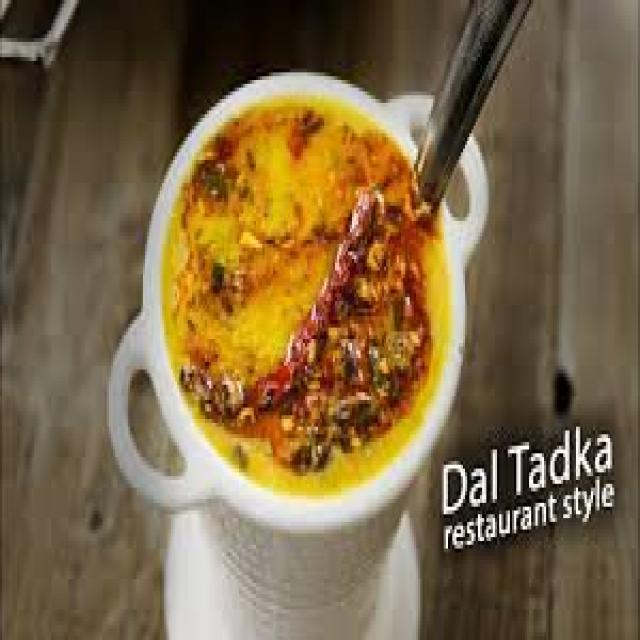dal: (190, 133, 443, 476)
